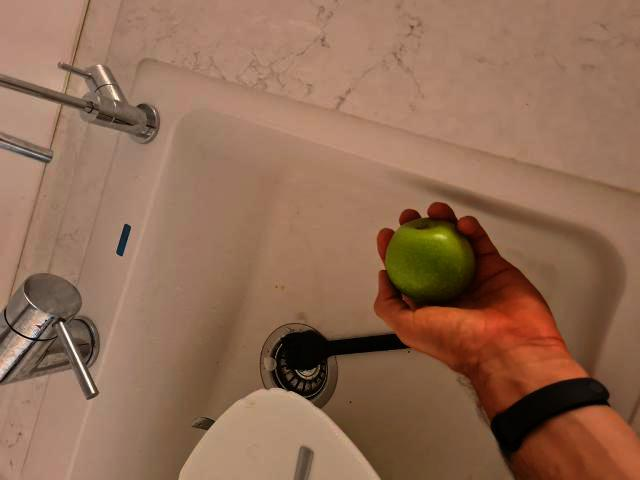apple: (385, 217, 477, 301)
